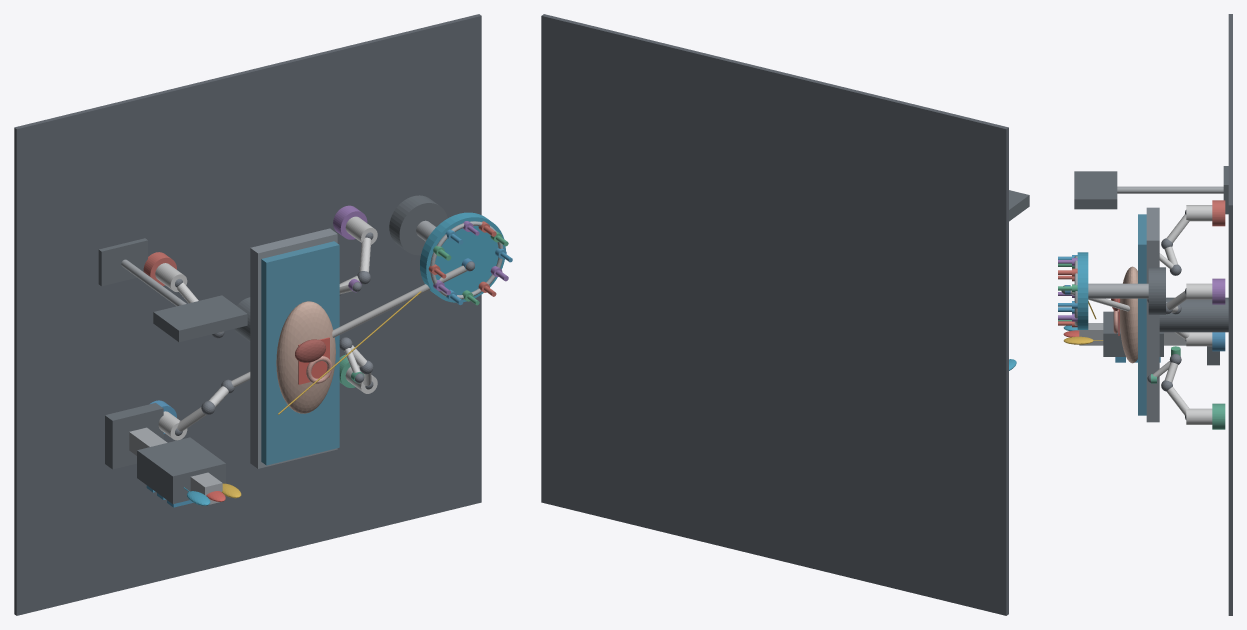
Rendered from dranmar_autonomous_rescue_or_tool_fault_rescue.glb.
3 renders of one model, left to right at view 1: azimuth 30°, elevation 25°; view 2: azimuth 150°, elevation 25°; view 3: azimuth 270°, elevation 25°, orthographic. The views are drawn at different scales.
Parts seen in each view (by area): view 1: floor, mattress, carousel_rotor, patient_torso, table_base, pump_rack, monitor_body, resus_base, carousel_base, monitor_base, resus_column, primary_link_2; view 2: floor; view 3: floor, table_base, table_column, monitor_body, mattress, patient_torso, carousel_column, carousel_rotor, pump_rack, carousel_base, monitor_pole, resus_column (+11 smaller).
Boxes of the visible parts, x1,y1,x2,y2 form: floor: (14, 14, 481, 615); mattress: (261, 241, 339, 465); carousel_rotor: (420, 212, 505, 302); patient_torso: (276, 301, 335, 413); table_base: (250, 228, 337, 468); pump_rack: (137, 437, 225, 503); monitor_body: (153, 295, 247, 342); resus_base: (105, 403, 163, 469); carousel_base: (389, 195, 447, 255); monitor_base: (98, 238, 147, 286); resus_column: (129, 427, 222, 504); primary_link_2: (231, 265, 466, 387); floor: (541, 14, 1008, 615); floor: (1228, 14, 1232, 615); table_base: (1146, 207, 1159, 422); table_column: (1159, 297, 1228, 332); monitor_body: (1074, 171, 1117, 209); mattress: (1138, 214, 1146, 415); patient_torso: (1119, 266, 1137, 363); carousel_column: (1088, 283, 1148, 298); carousel_rotor: (1077, 252, 1088, 329); pump_rack: (1103, 311, 1163, 356); carousel_base: (1148, 267, 1165, 314); monitor_pole: (1117, 186, 1223, 193); resus_column: (1079, 323, 1186, 345).
Size of the model in its own units: 4.2 by 4.2 by 1.62.
